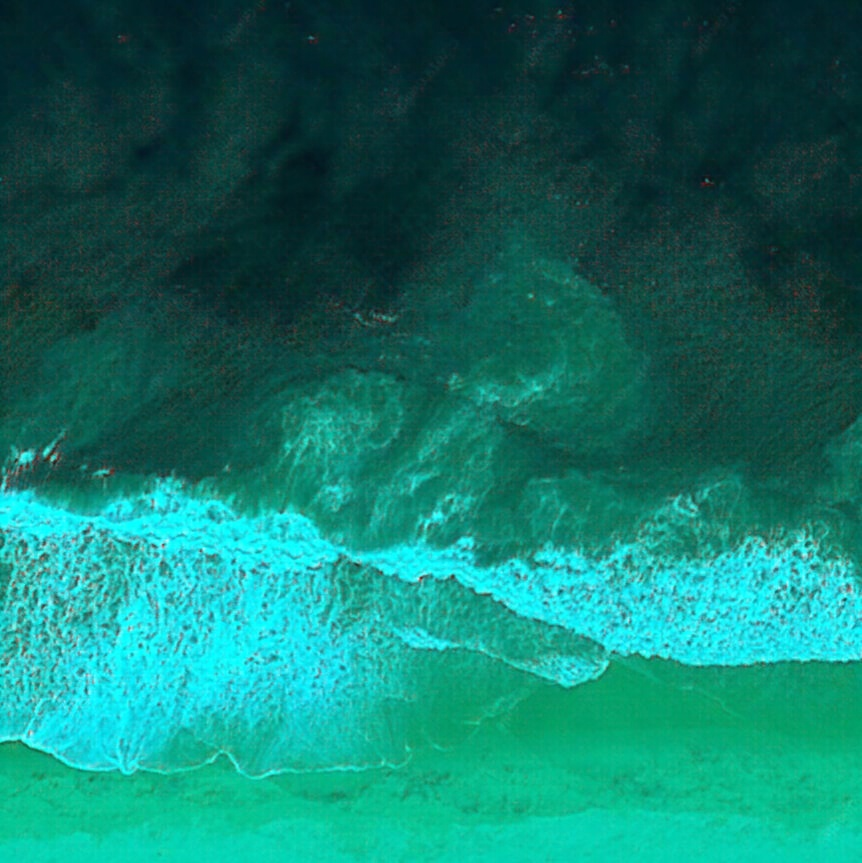rip_current: (229, 208, 641, 738)
